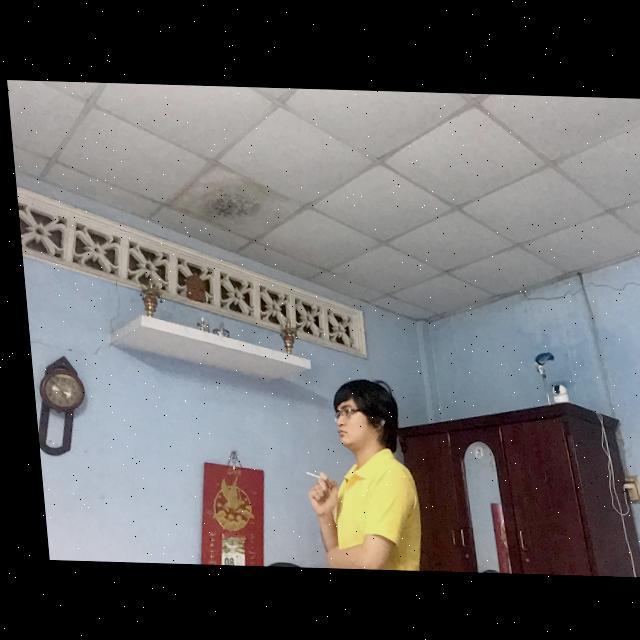cigarette: (297, 470, 312, 477)
